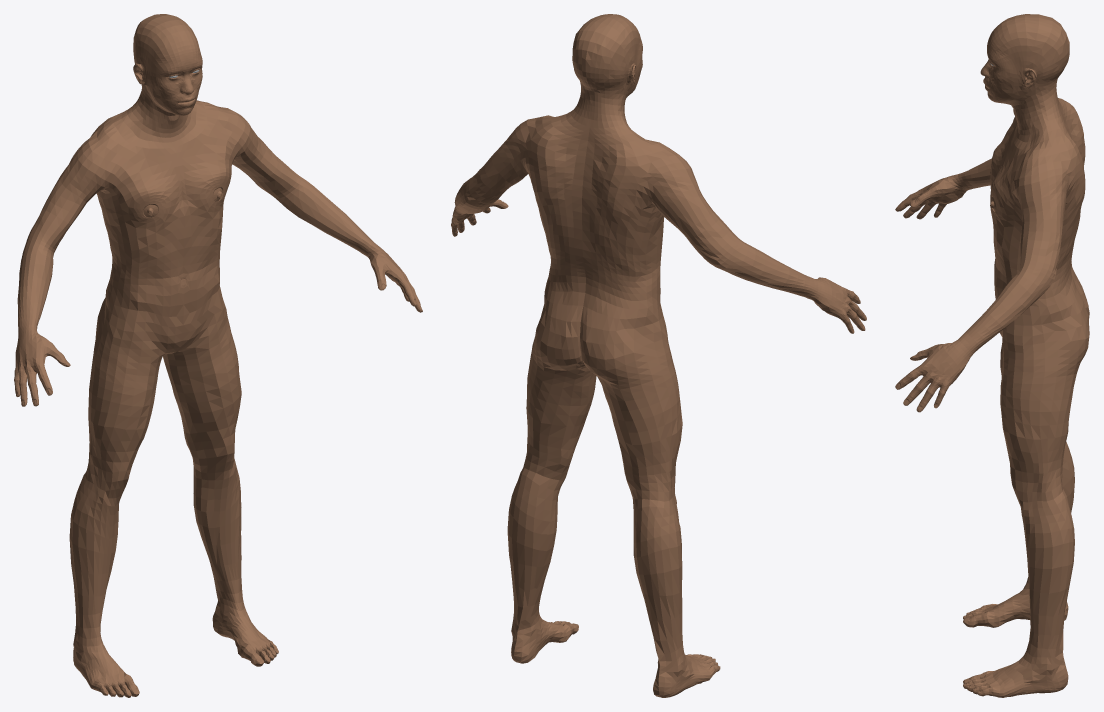
3 views of the same model, side by side, from view 1: azimuth 30°, elevation 25°; view 2: azimuth 150°, elevation 25°; view 3: azimuth 270°, elevation 25° (orthographic).
Visible parts, largest first — view 1: base.obj; view 2: base.obj; view 3: base.obj.
Part boxes in pixels (x1=…): base.obj: x1=14, y1=14, x2=422, y2=697; base.obj: x1=451, y1=14, x2=866, y2=697; base.obj: x1=895, y1=14, x2=1089, y2=697.
Size of the model in its own units: 11.28 by 17.3 by 4.77.
